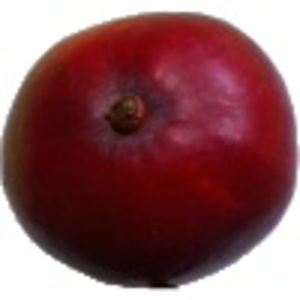manga: (1, 10, 300, 289)
